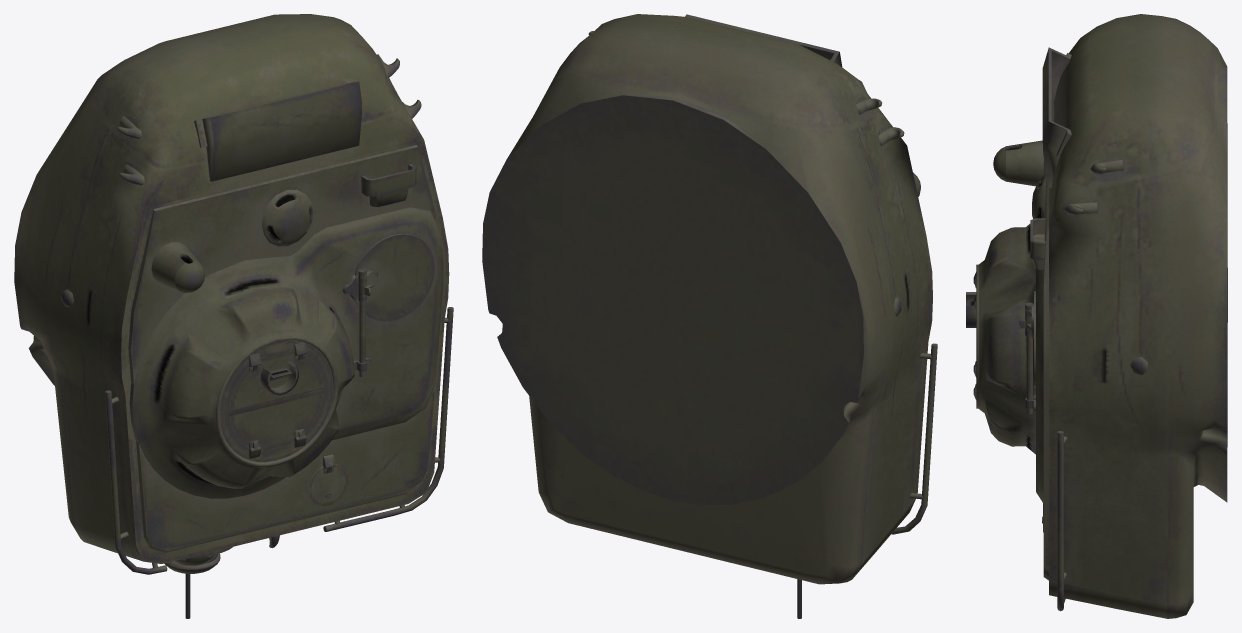
File: Turret_02.glb
3 views of the same model, side by side, from view 1: azimuth 30°, elevation 25°; view 2: azimuth 150°, elevation 25°; view 3: azimuth 270°, elevation 25° (orthographic). The views are drawn at different scales.
Visible parts, largest first — view 1: set_0_group_0; view 2: set_0_group_0; view 3: set_0_group_0.
Part boxes in pixels (x1,y1,x2,y2): set_0_group_0: (14,14,453,618); set_0_group_0: (482,14,937,618); set_0_group_0: (966,14,1227,618).
Size of the model in its own units: 1.87 by 2.7 by 1.12.
1 material, 1 textured.
